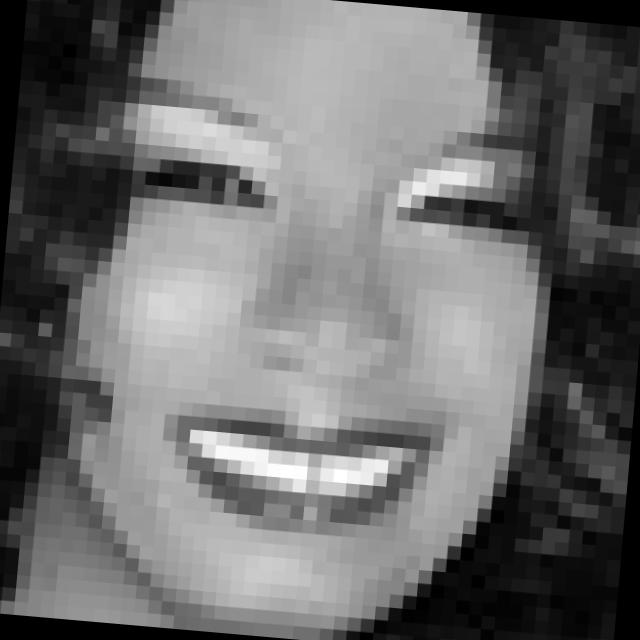happy: (70, 79, 547, 563)
